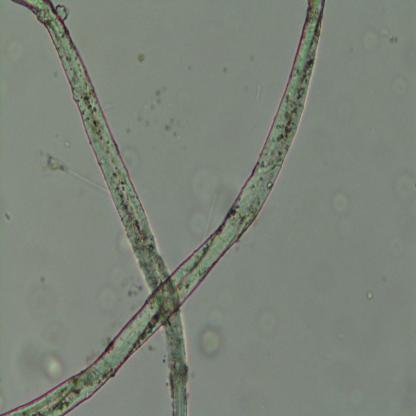Background material: (12, 334, 66, 383), (100, 258, 126, 312), (201, 305, 224, 356), (191, 161, 221, 199), (319, 180, 350, 216), (27, 281, 56, 315), (126, 268, 145, 306), (391, 72, 415, 99), (118, 142, 138, 170), (380, 20, 399, 47), (148, 83, 167, 110), (261, 309, 279, 334), (118, 229, 134, 256), (160, 116, 176, 135), (365, 31, 378, 54), (252, 81, 266, 102), (0, 210, 13, 223), (366, 288, 374, 303), (136, 52, 144, 64)
Glass filter fibre: (50, 154, 108, 195), (200, 189, 218, 239)
Microfibre: (0, 0, 326, 416), (8, 0, 188, 416)
